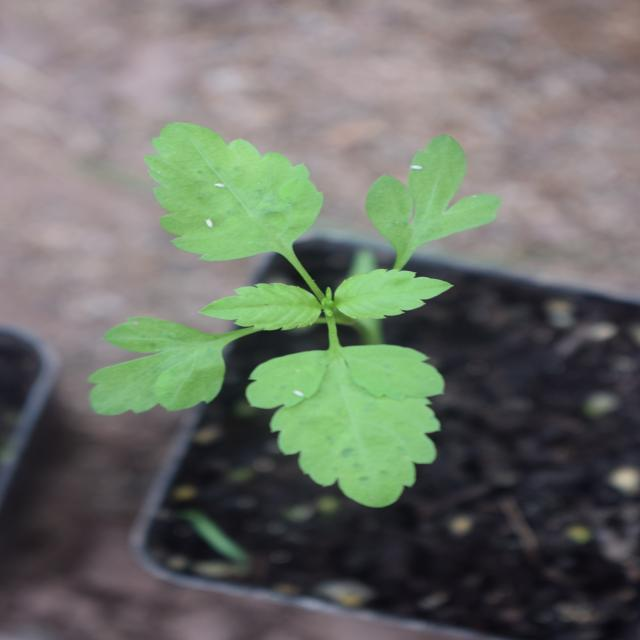Bidens pilosa: (127, 83, 514, 520)
